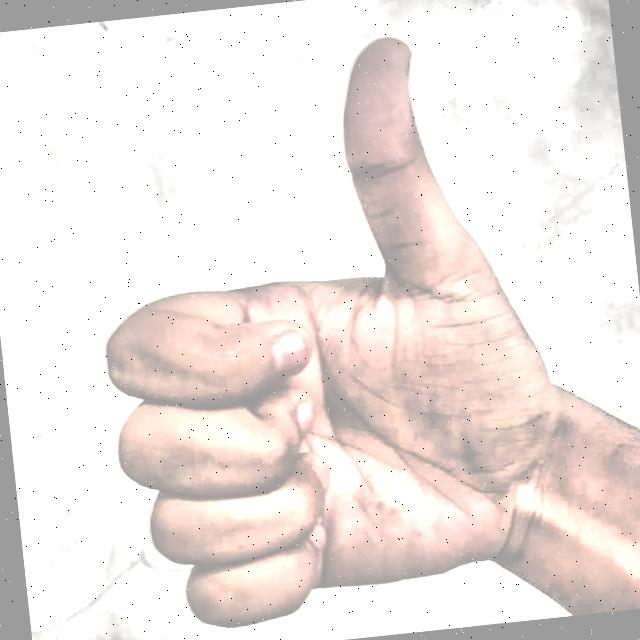Do: (46, 8, 581, 640)
